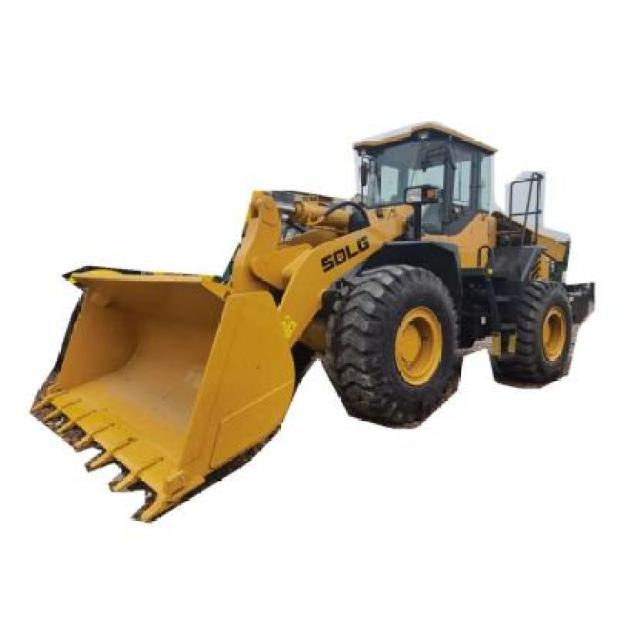buldozerpayloadergrader: (20, 90, 611, 546)
